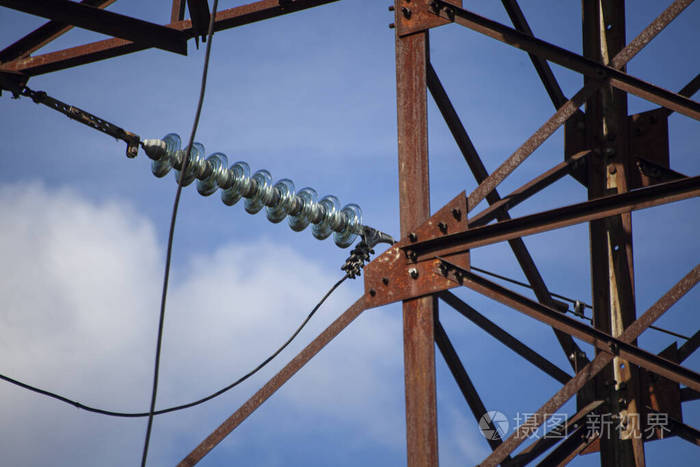insulator: (148, 132, 365, 245)
